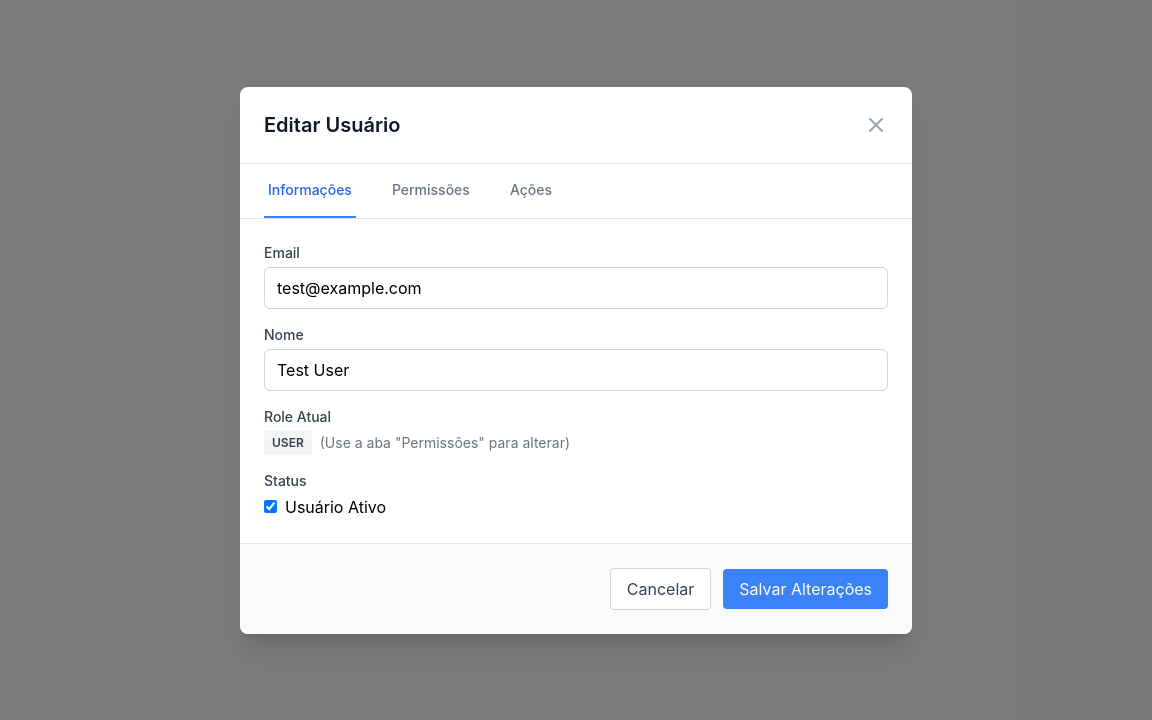
EditUserModal › Aba Permissões - Usuário sem Permissão › deve mostrar mensagem de sem permissão para USER
Click the button "Permissões" at (431, 190), box [388, 164, 474, 218]
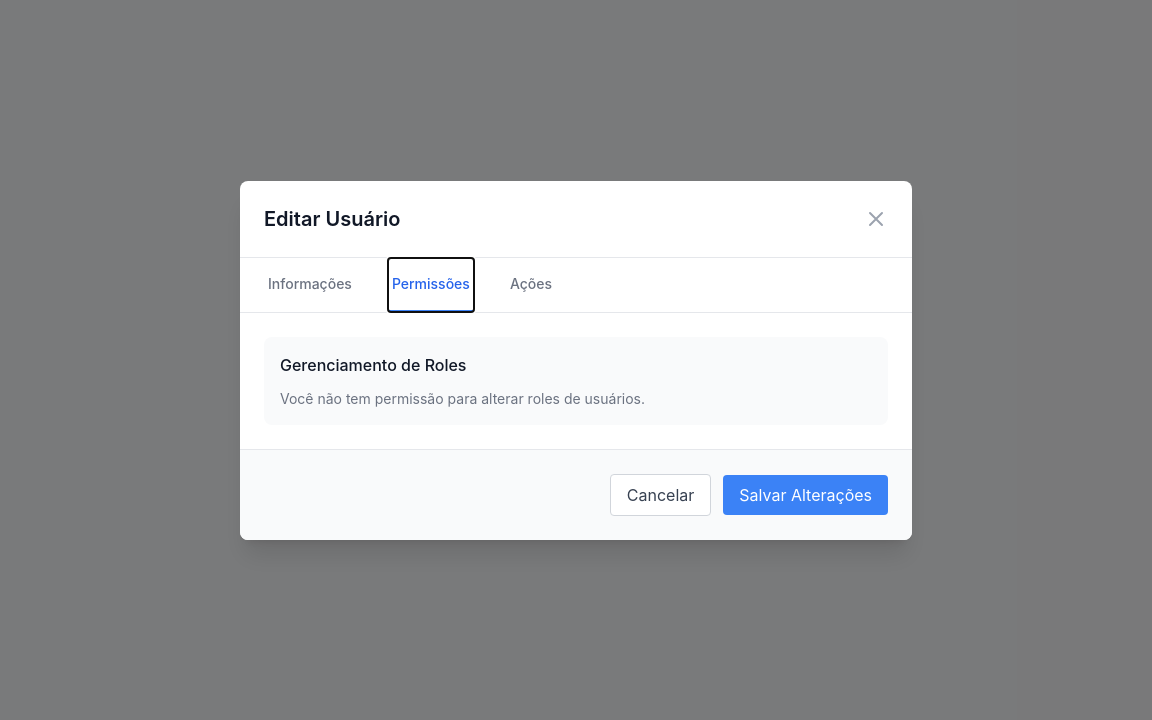
Result: the text "Você não tem permissão para alterar roles de usuários." is shown at [280, 390, 645, 406]
